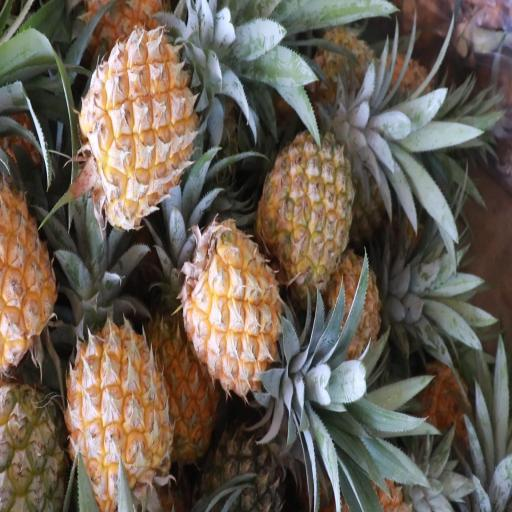------------------------------: (258, 126, 354, 290)
Pineapple - v8 v1: (83, 21, 205, 214), (73, 324, 171, 507), (188, 222, 286, 398), (0, 168, 61, 368), (147, 311, 220, 461)
